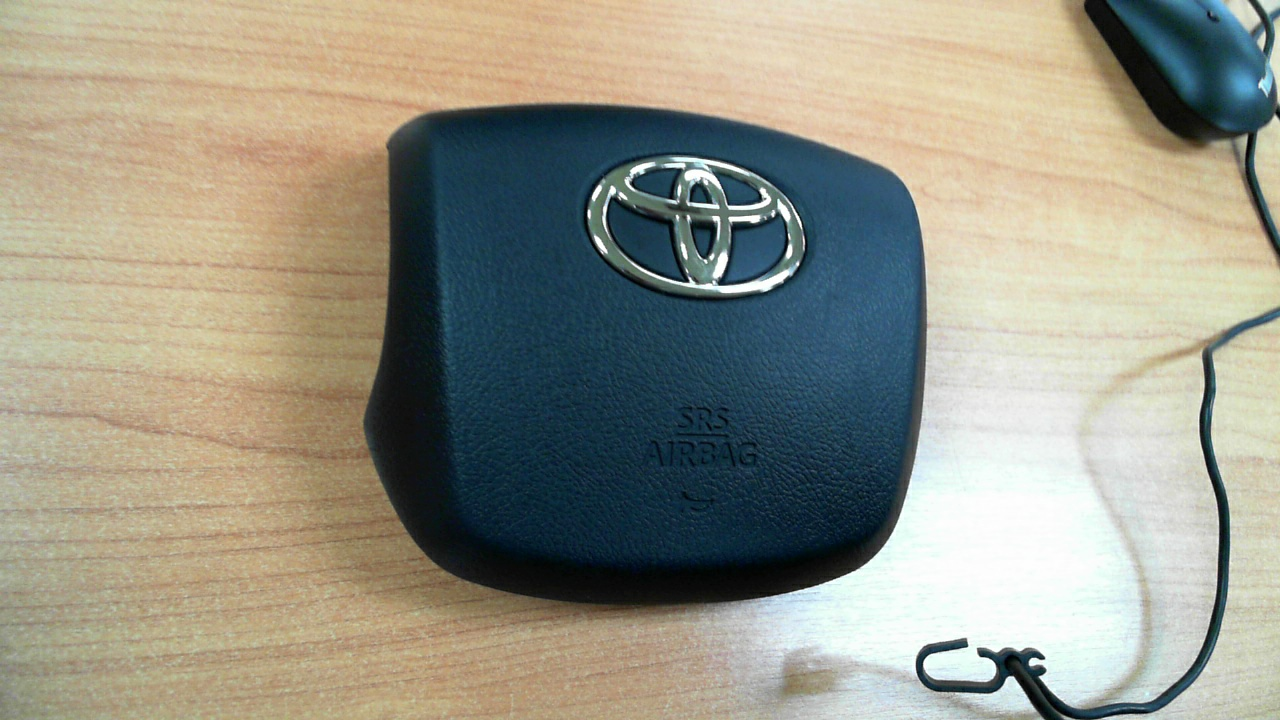Airbag: (327, 93, 945, 626)
